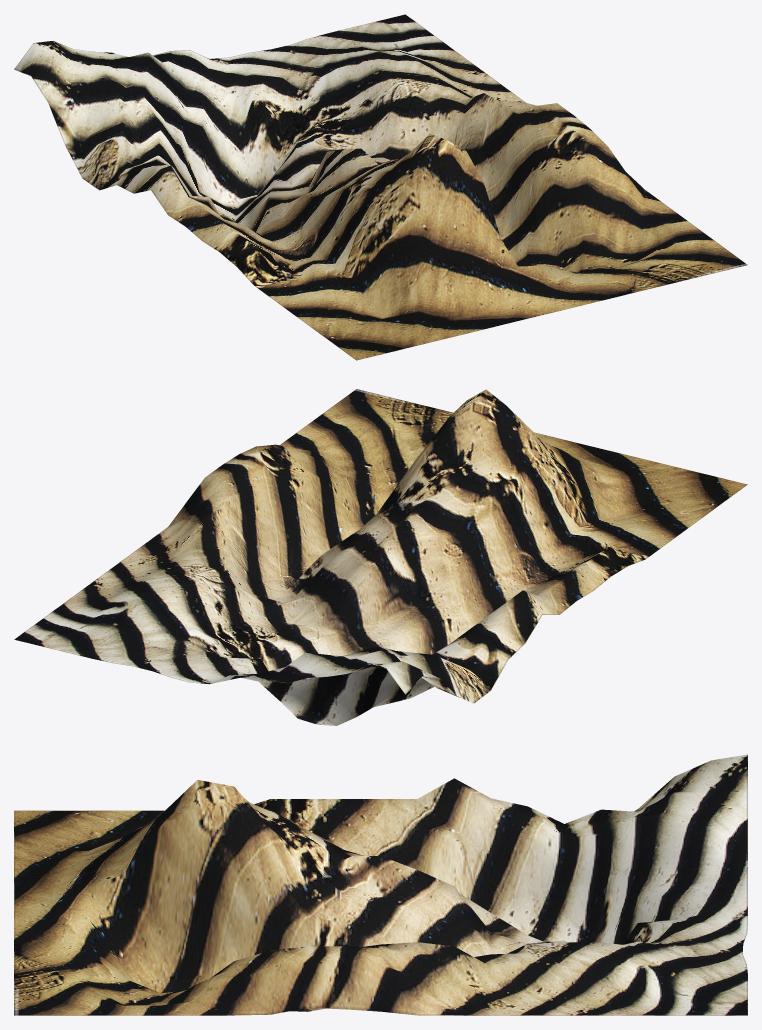
File: terrain_wHeight_old01.dae
3 renders of one model, top to bottom at view 1: azimuth 30°, elevation 25°; view 2: azimuth 150°, elevation 25°; view 3: azimuth 270°, elevation 25°, orthographic. The views are drawn at different scales.
Parts seen in each view (by area): view 1: geoTerrainOuch; view 2: geoTerrainOuch; view 3: geoTerrainOuch.
Part boxes in pixels (<box>): geoTerrainOuch: <box>14,14,747,360</box>; geoTerrainOuch: <box>14,389,747,725</box>; geoTerrainOuch: <box>14,754,747,1015</box>.
Size of the model in its own units: 1980 by 3000 by 932.
1 material, 1 textured.
